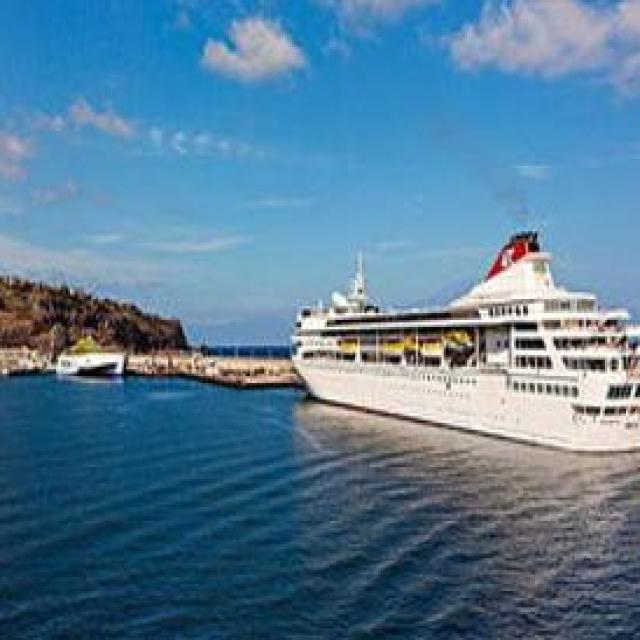navalvessels: (287, 234, 640, 456)
